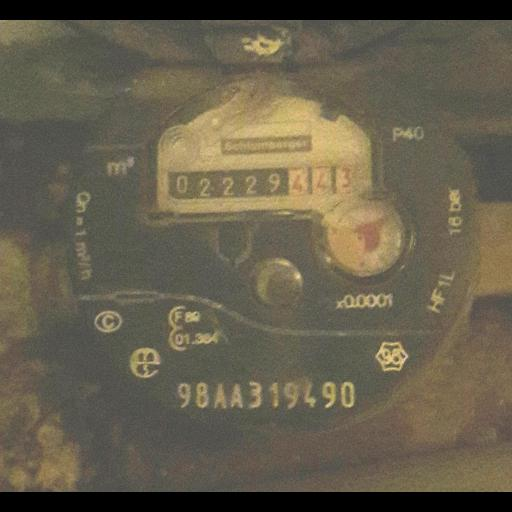0: (173, 171, 191, 199)
2: (242, 168, 261, 198), (196, 171, 214, 200), (219, 170, 237, 199)
3: (337, 165, 353, 196)
4: (313, 166, 331, 196), (290, 168, 306, 196)
9: (266, 167, 283, 197)
border_water_meter_number: (168, 165, 355, 202)
